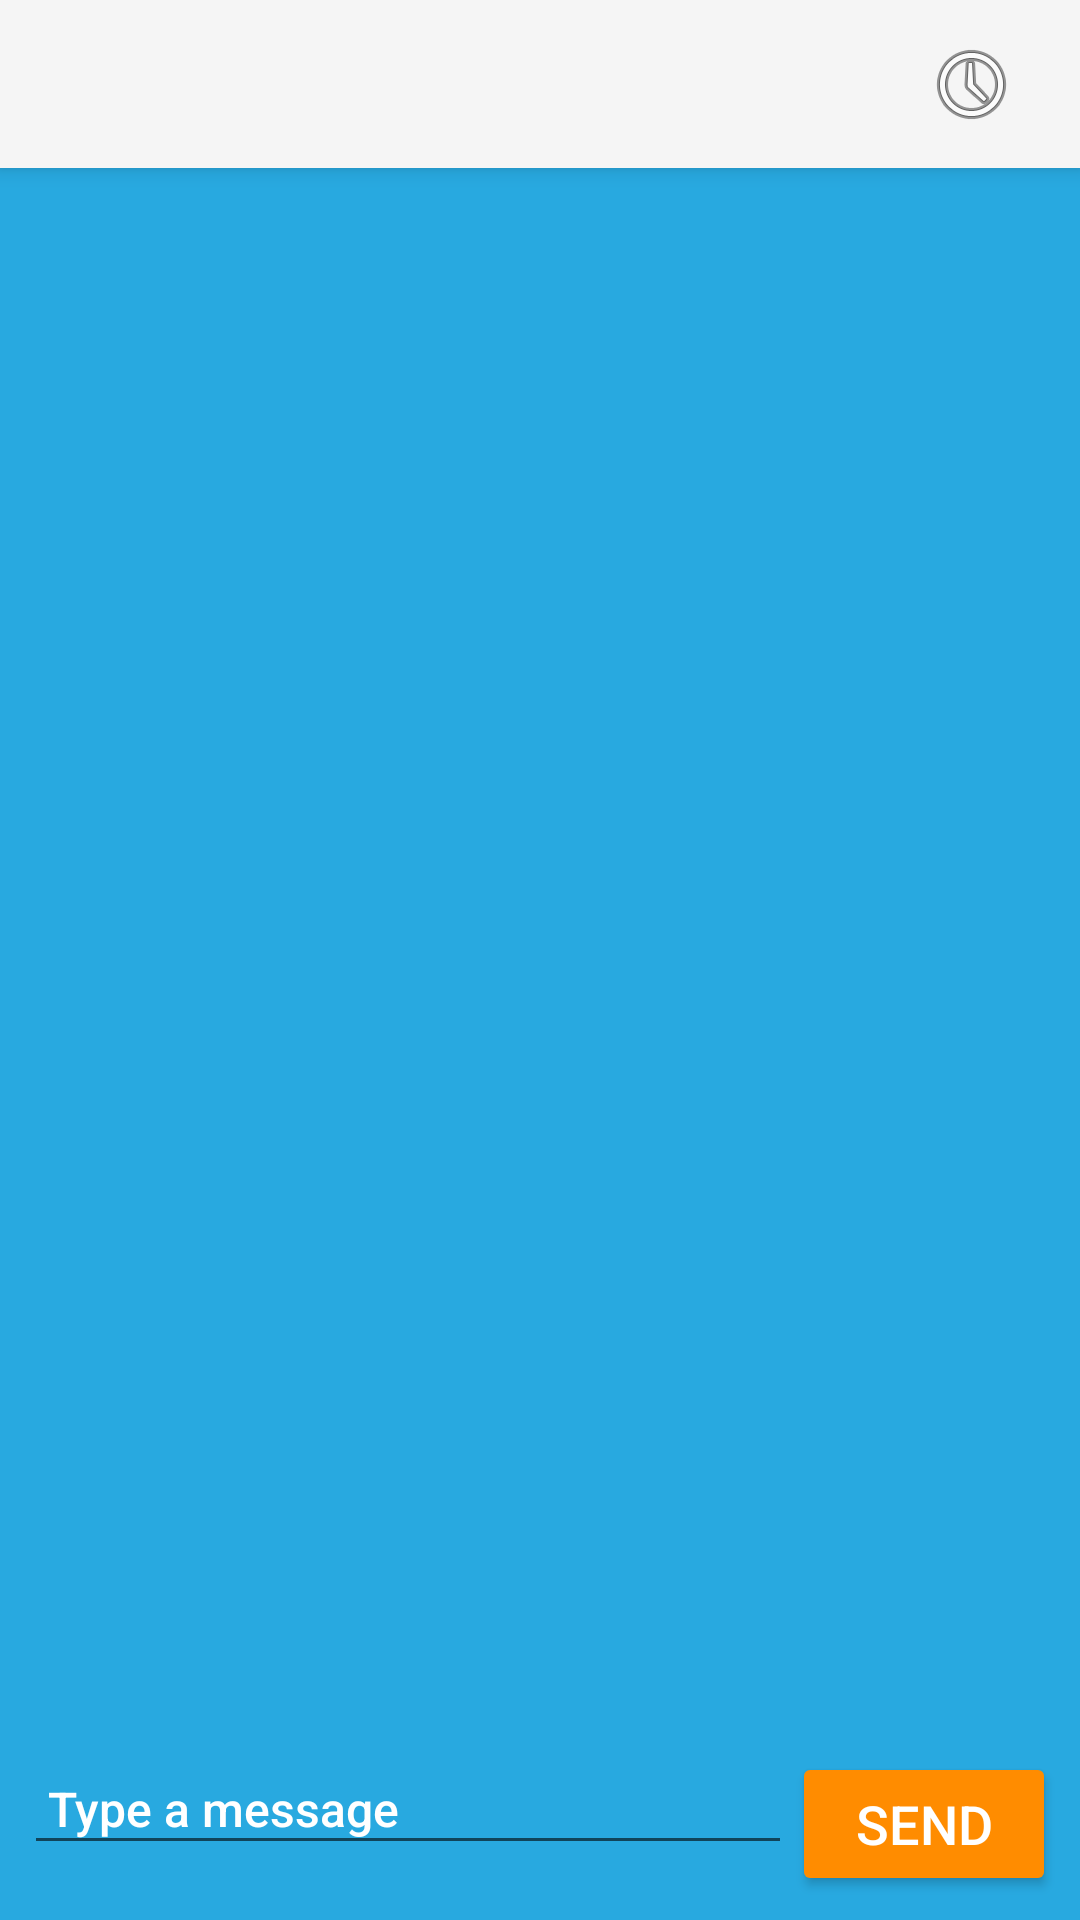

Icons on this 1080×1920 Android screen, each with the point to tap as (x,y):
History: (971,84)
